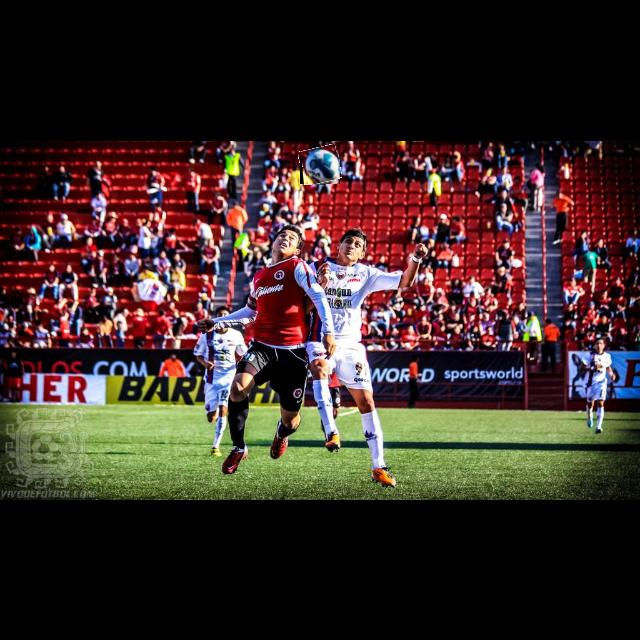Football: (300, 146, 340, 184)
